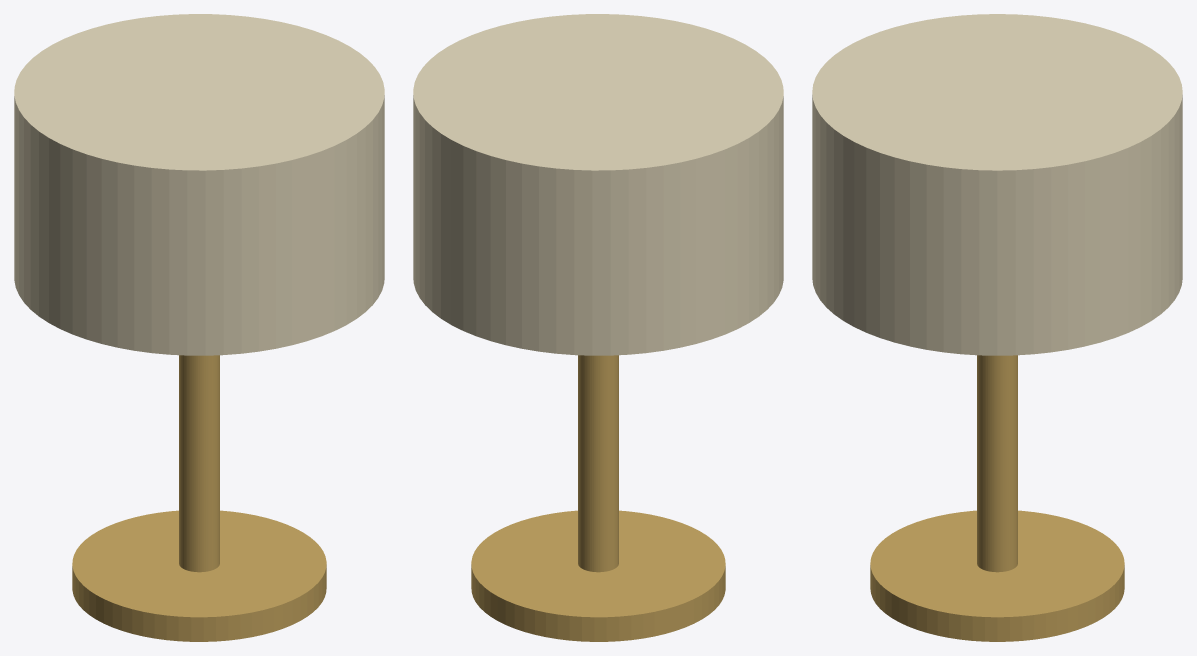
File: desk_lamp.glb
3 views of the same model, side by side, from view 1: azimuth 30°, elevation 25°; view 2: azimuth 150°, elevation 25°; view 3: azimuth 270°, elevation 25° (orthographic).
Visible parts, largest first — view 1: Shade, Base, Stem; view 2: Shade, Base, Stem; view 3: Shade, Base, Stem.
Boxes of the visible parts, <box> form: Shade: <box>14,14,384,355</box>; Base: <box>72,510,326,641</box>; Stem: <box>179,355,219,572</box>; Shade: <box>413,14,783,355</box>; Base: <box>471,510,725,641</box>; Stem: <box>578,355,618,572</box>; Shade: <box>812,14,1182,355</box>; Base: <box>870,510,1124,641</box>; Stem: <box>977,355,1017,572</box>.
Size of the model in its own units: 0.816 by 1.2 by 0.816.
